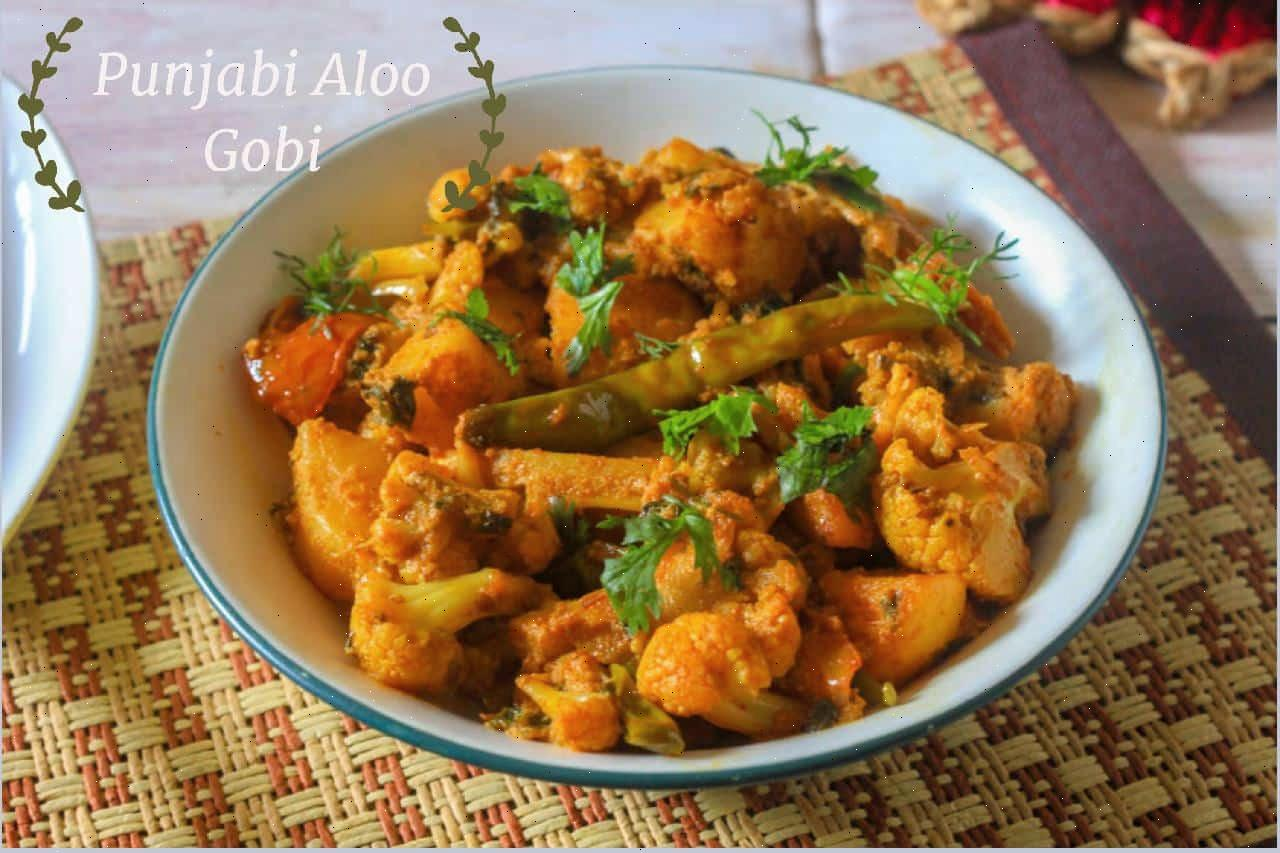aloo gobhi: (246, 123, 1065, 734)
